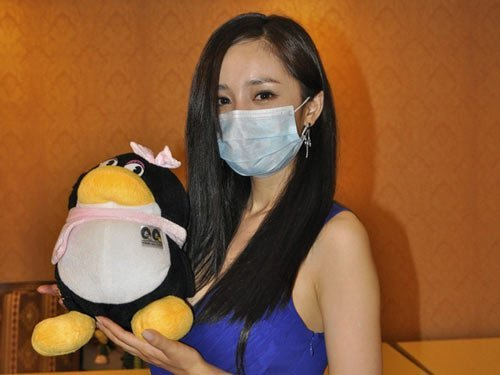face_mask: (209, 41, 307, 173)
